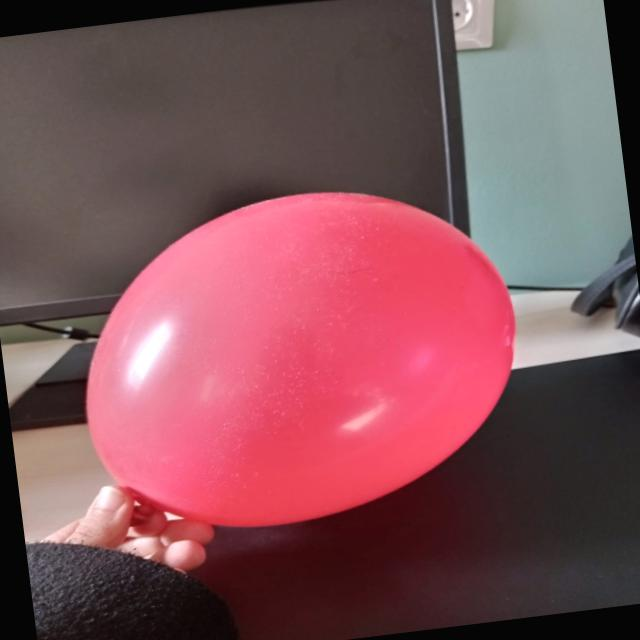balloon: (86, 193, 514, 526)
